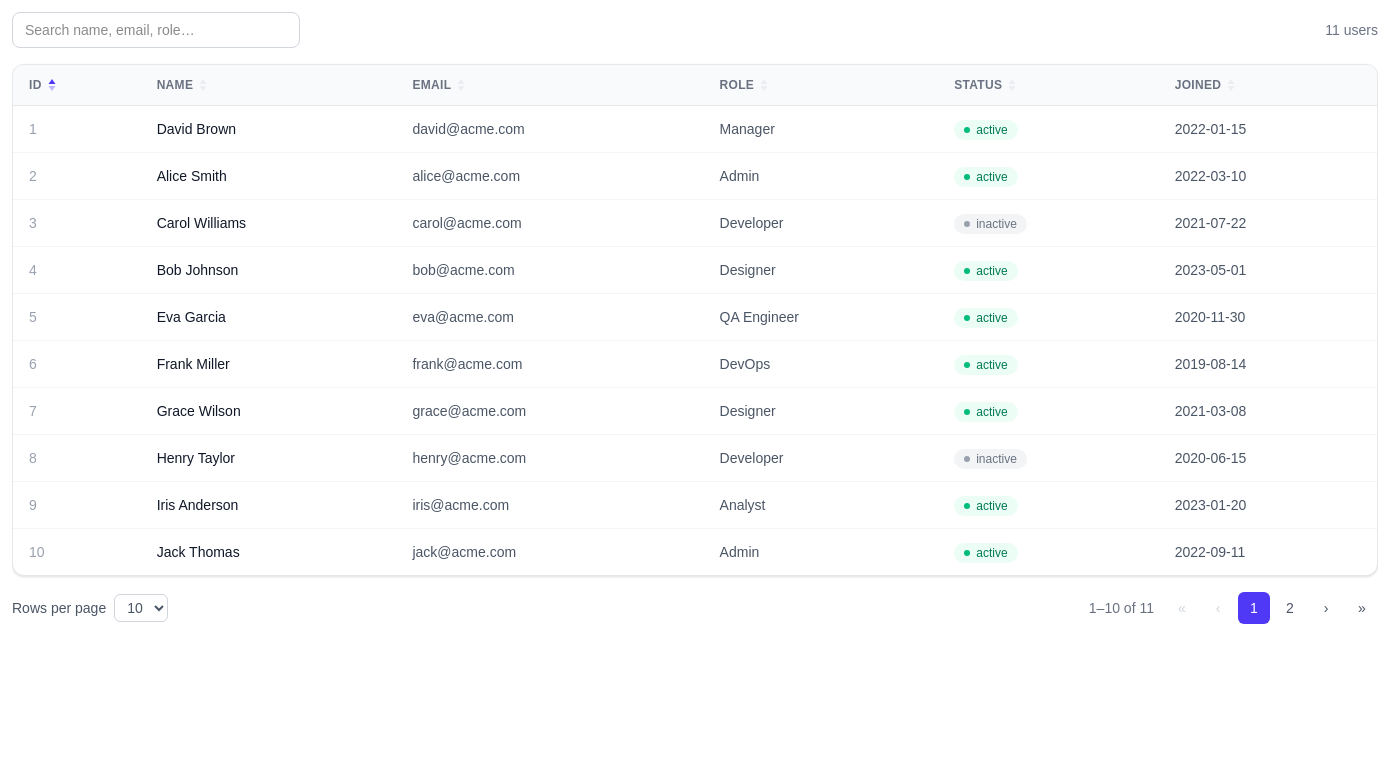
Test case: DataTable — search / filter › filters rows to only those matching the search query
The image size is (1390, 780).
Type "alice" into the search field with placeholder "Search name, email, role…" at (156, 30), box [12,12,300,48]
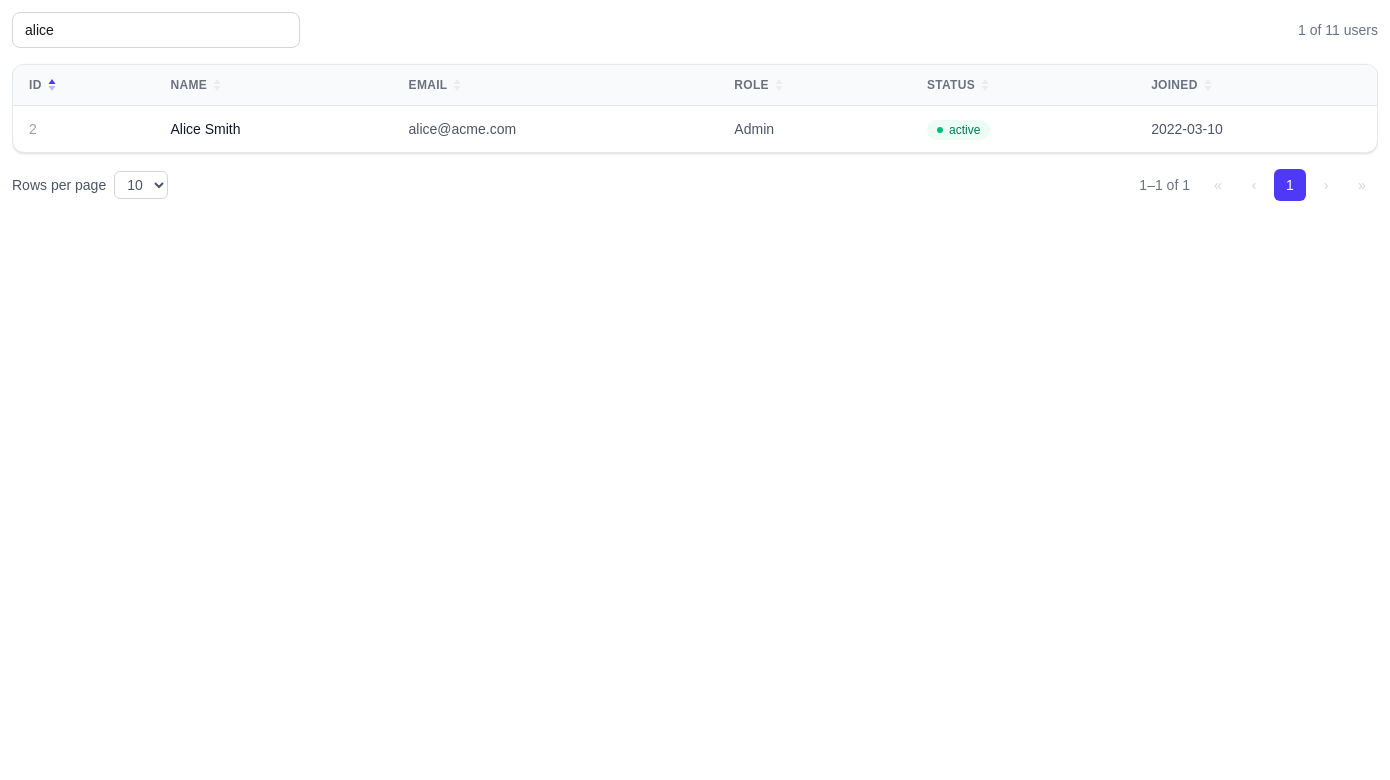
Expected: the text "Alice Smith" is shown, [154,106,393,152]
Expected: the text "David Brown" is gone
